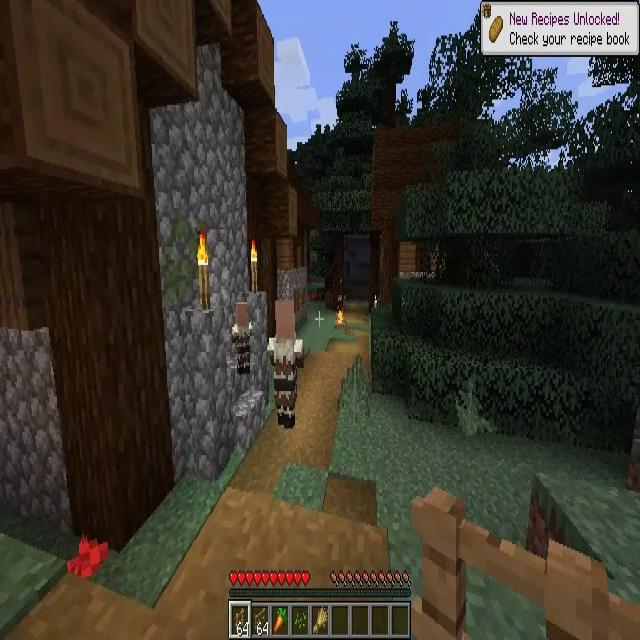people: (268, 301, 304, 429), (232, 300, 254, 374)
